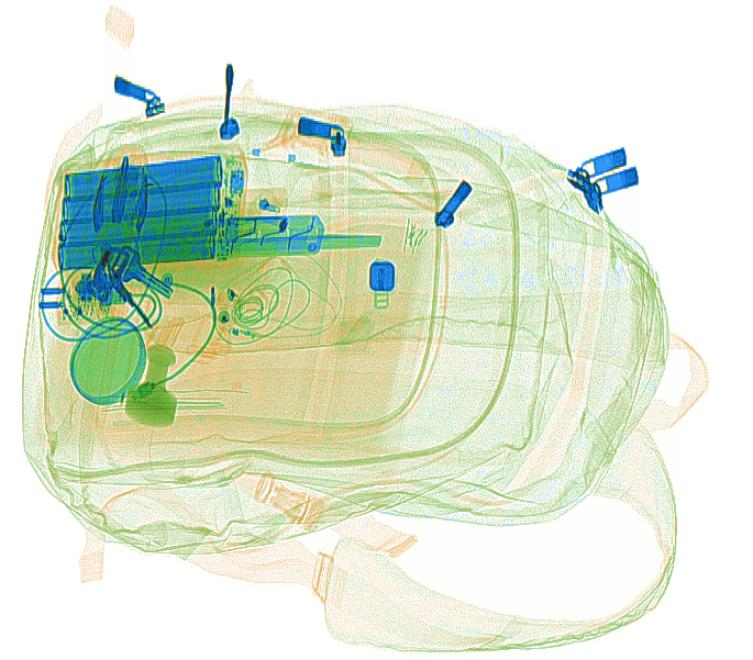battery: (52, 147, 251, 282)
seal: (121, 340, 178, 429)
